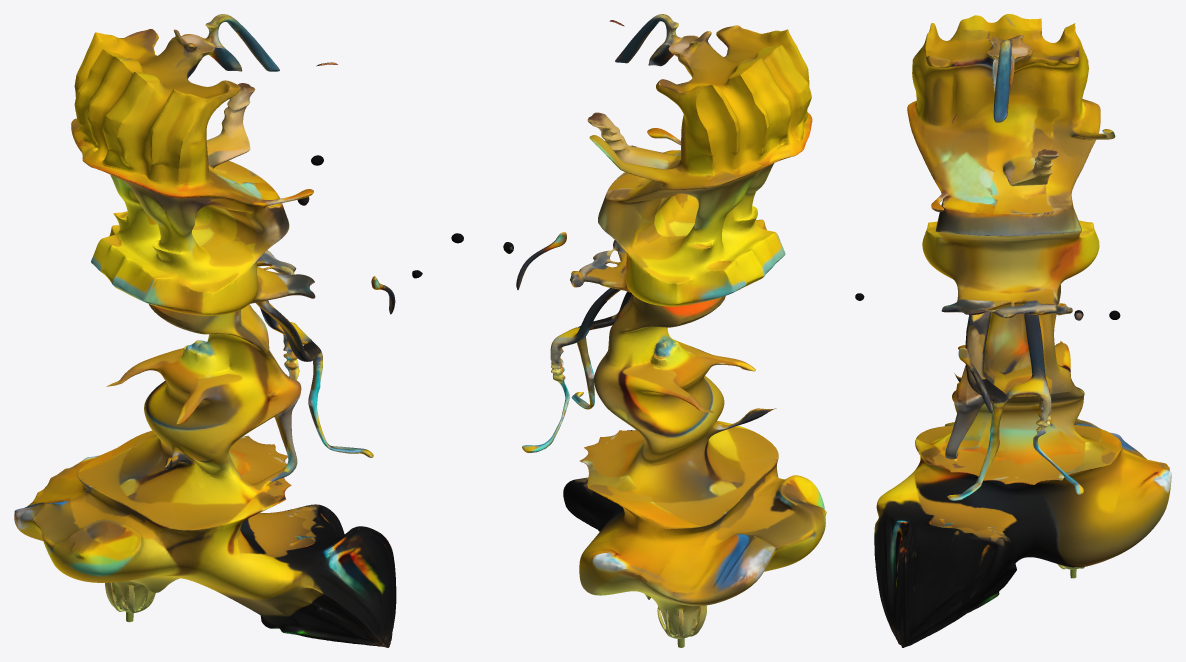
3 views of the same model, side by side, from view 1: azimuth 30°, elevation 25°; view 2: azimuth 150°, elevation 25°; view 3: azimuth 270°, elevation 25° (orthographic). The views are drawn at different scales.
Parts seen in each view (by area): view 1: model; view 2: model; view 3: model.
Boxes of the visible parts, left/top/right/bottom form: model: left=14, top=14, right=422, bottom=647; model: left=451, top=14, right=826, bottom=647; model: left=855, top=14, right=1171, bottom=647.
Bounding box in the file's own units: 1.05 × 1.9 × 0.9736.
1 material, 1 textured.
